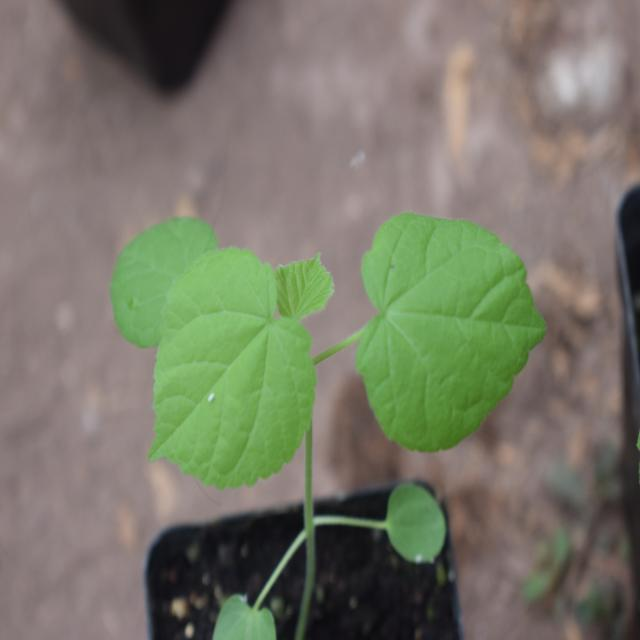abutilon theophrasti: (88, 179, 531, 575)
